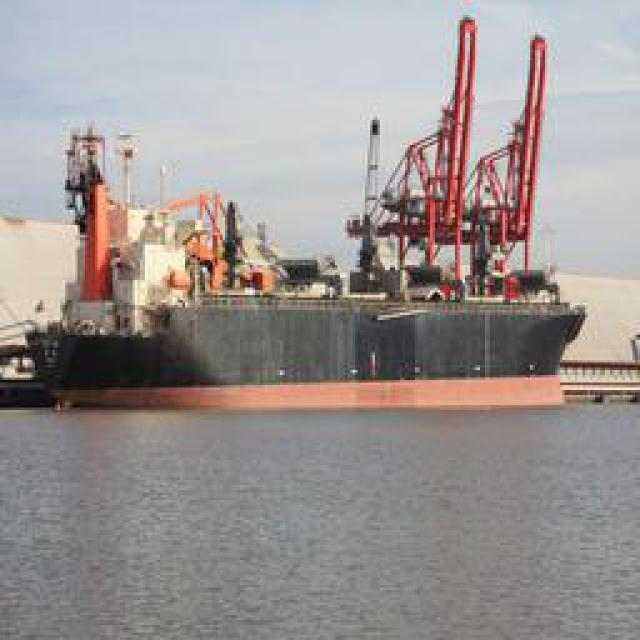Ship: (44, 16, 597, 411)
